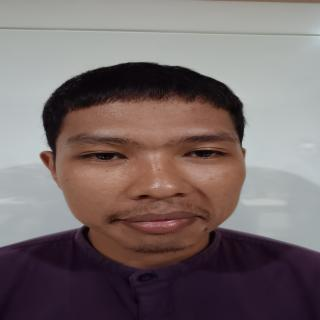Sedih: (43, 96, 254, 259)
